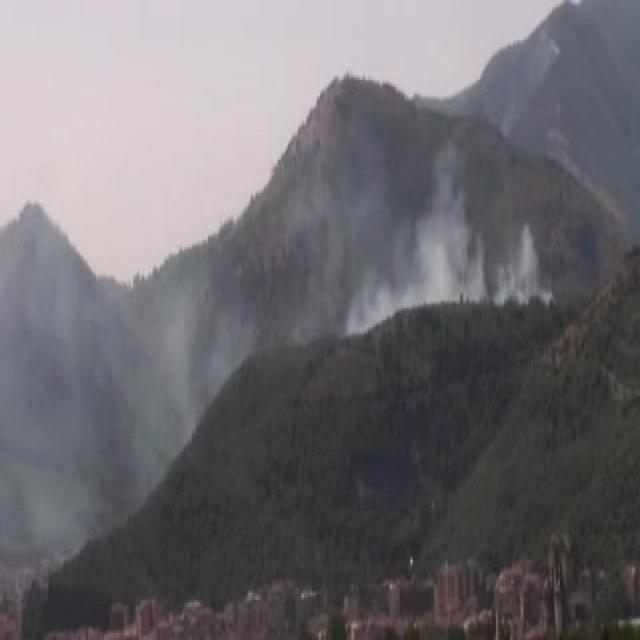smoke: (344, 207, 541, 324)
